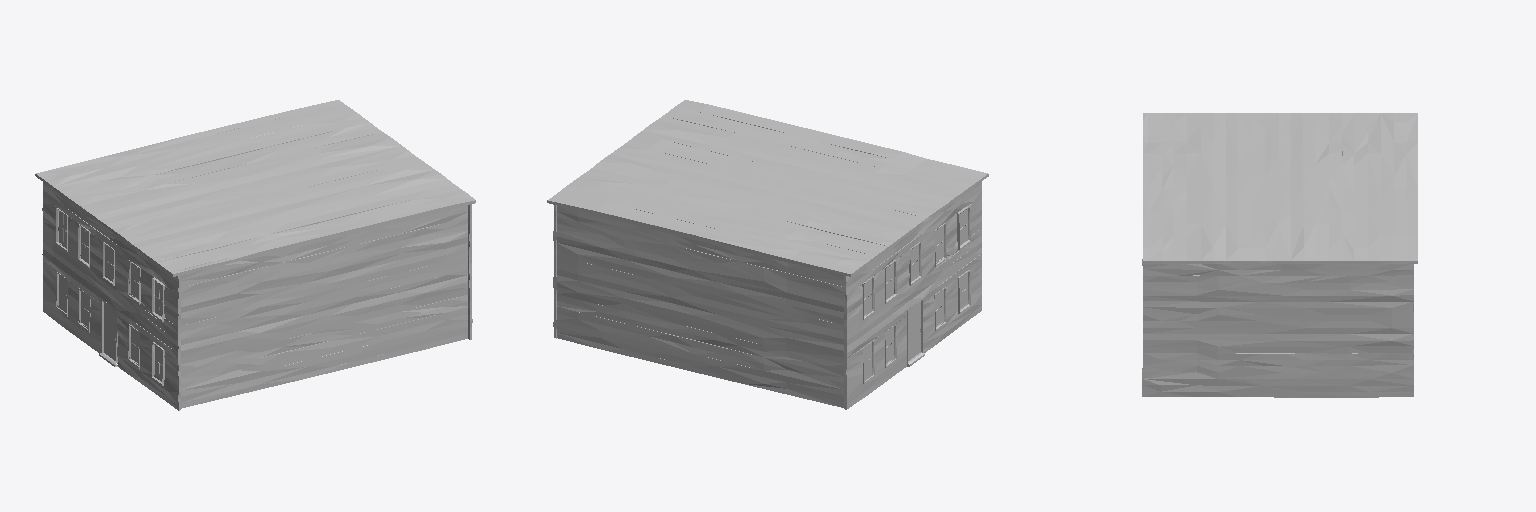
Rendered from Bank_LOD2.obj.
3 views of the same model, side by side, from view 1: azimuth 30°, elevation 25°; view 2: azimuth 150°, elevation 25°; view 3: azimuth 270°, elevation 25° (orthographic).
Visible parts, largest first — view 1: WildWest_Bank_Roof, WildWest_Bank_Wall04, WildWest_Bank_Wall01, WildWest_Bank_Glass, WildWest_Bank_Door01, WildWest_Bank_Wall03; view 2: WildWest_Bank_Roof, WildWest_Bank_Wall02, WildWest_Bank_Wall01, WildWest_Bank_Glass, WildWest_Bank_Door01; view 3: WildWest_Bank_Roof, WildWest_Bank_Wall03.
Part boxes in pixels (left/top/right/bottom): WildWest_Bank_Roof: left=35, top=100, right=475, bottom=276; WildWest_Bank_Wall04: left=181, top=206, right=467, bottom=408; WildWest_Bank_Wall01: left=42, top=182, right=180, bottom=410; WildWest_Bank_Glass: left=59, top=211, right=162, bottom=379; WildWest_Bank_Door01: left=104, top=302, right=115, bottom=360; WildWest_Bank_Wall03: left=468, top=203, right=472, bottom=339; WildWest_Bank_Roof: left=547, top=100, right=988, bottom=276; WildWest_Bank_Wall02: left=557, top=206, right=843, bottom=407; WildWest_Bank_Wall01: left=843, top=181, right=981, bottom=409; WildWest_Bank_Glass: left=864, top=209, right=967, bottom=379; WildWest_Bank_Door01: left=908, top=302, right=920, bottom=360; WildWest_Bank_Roof: left=1143, top=113, right=1417, bottom=263; WildWest_Bank_Wall03: left=1142, top=259, right=1413, bottom=397.
Bounding box in the file's own units: 14.29 × 6.34 × 11.22.